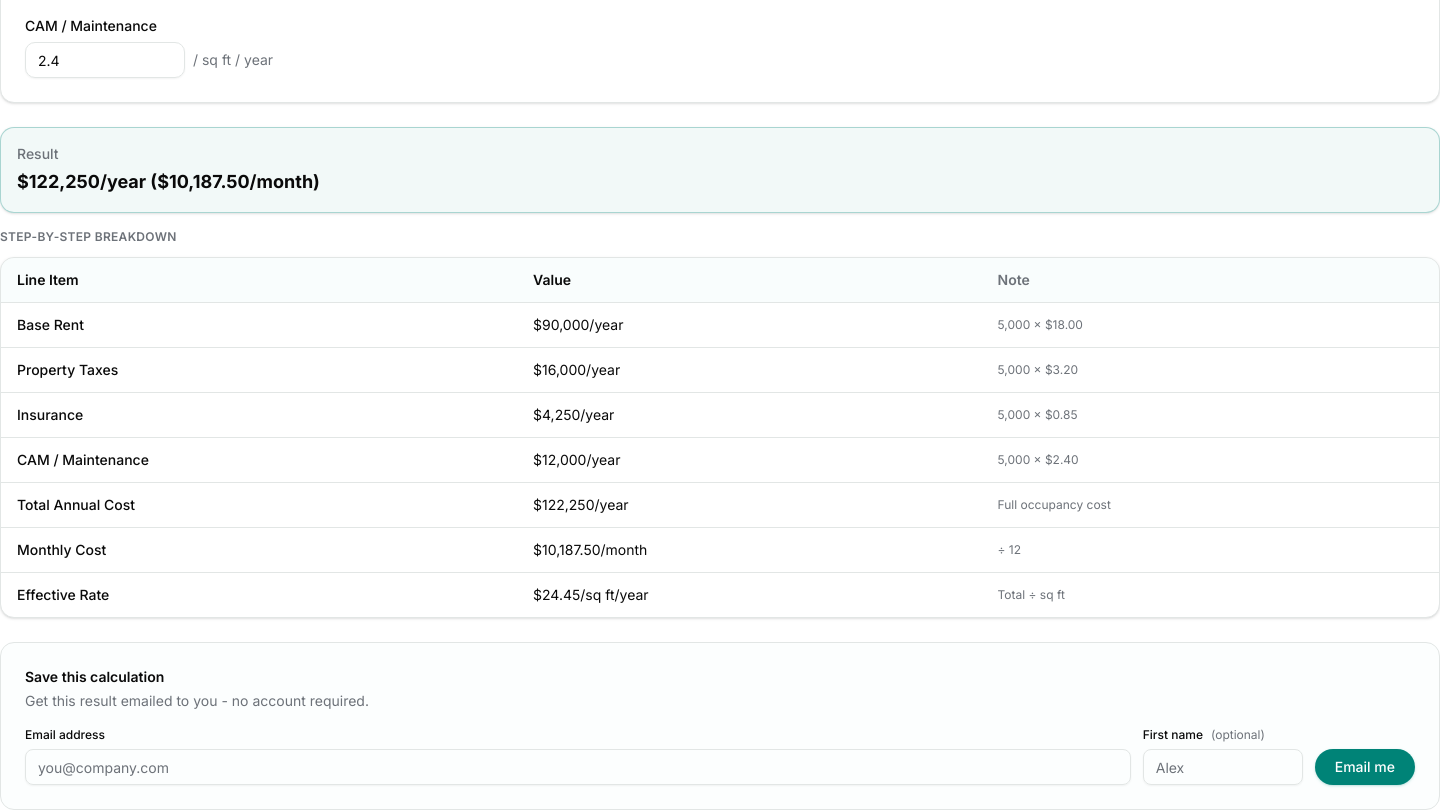
Test: InteractiveCalculator › surfaces API error messages from failed email capture
The width and height of the screenshot is (1440, 810).
(page scrolled)
Type "alex@example.com" into the field labelled "Email address" at (578, 767), box top-left (25, 749), bottom-right (1131, 785)
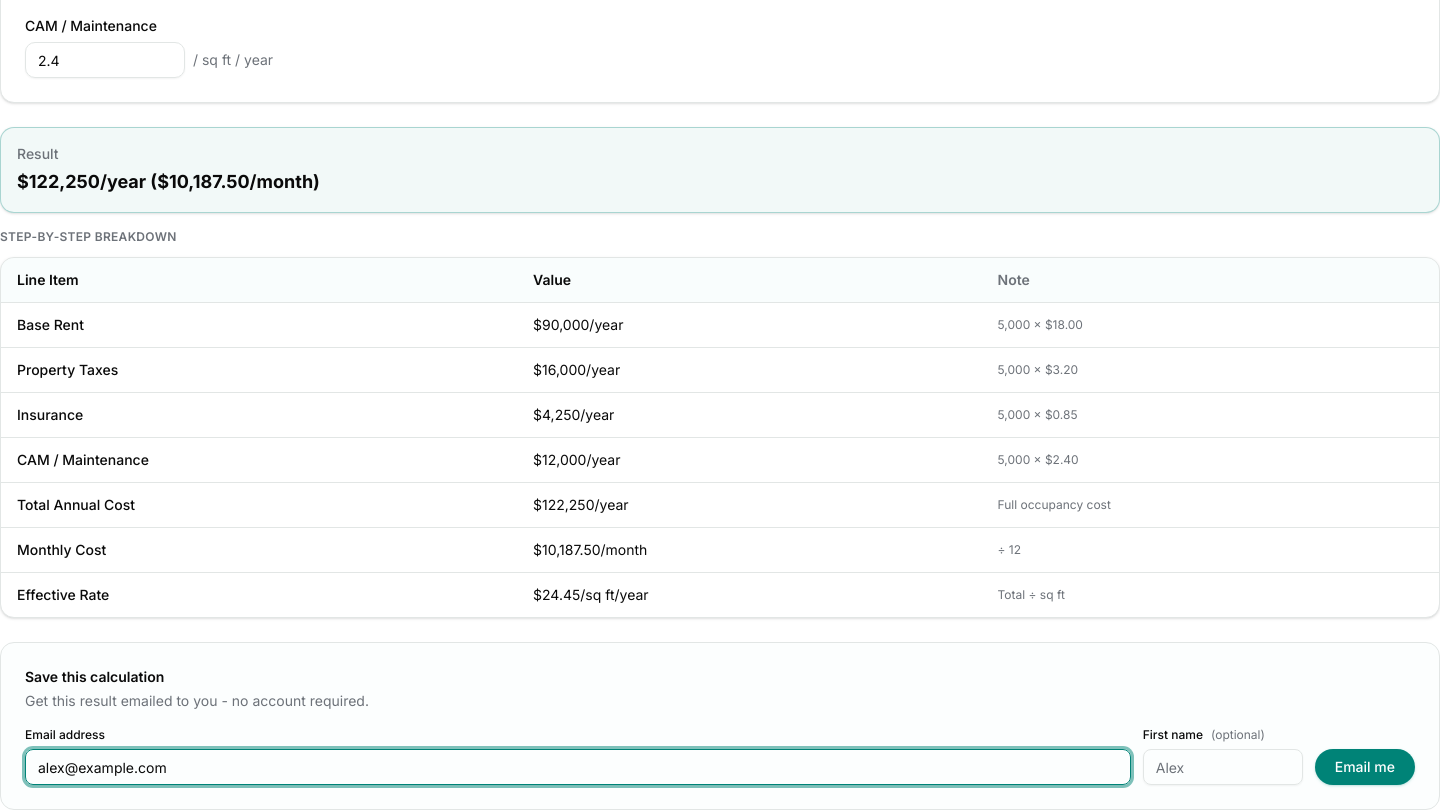
Click the button "Email me" at (1365, 767), box top-left (1315, 749), bottom-right (1415, 785)
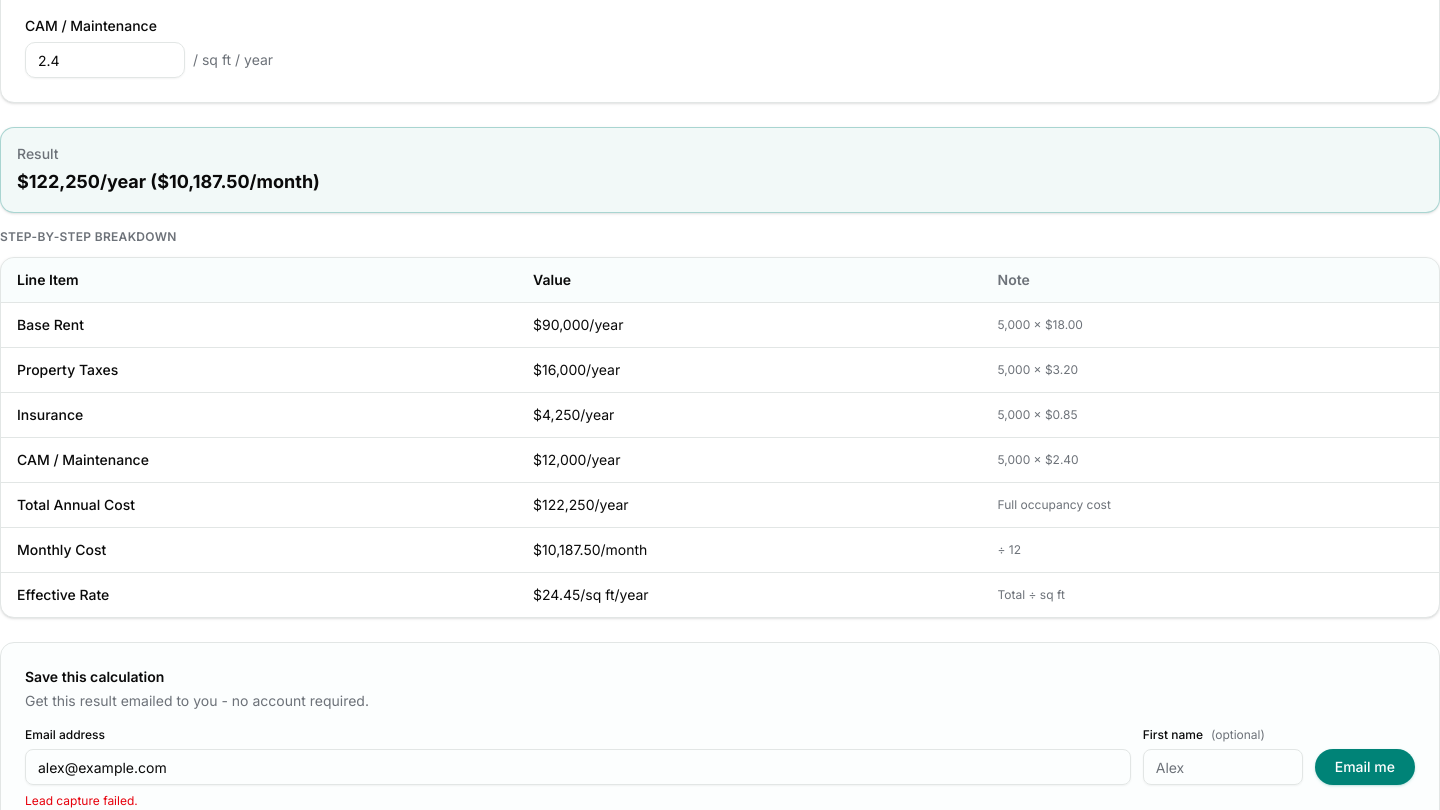
Now the message reads "Lead capture failed.", box top-left (25, 793), bottom-right (138, 808)
